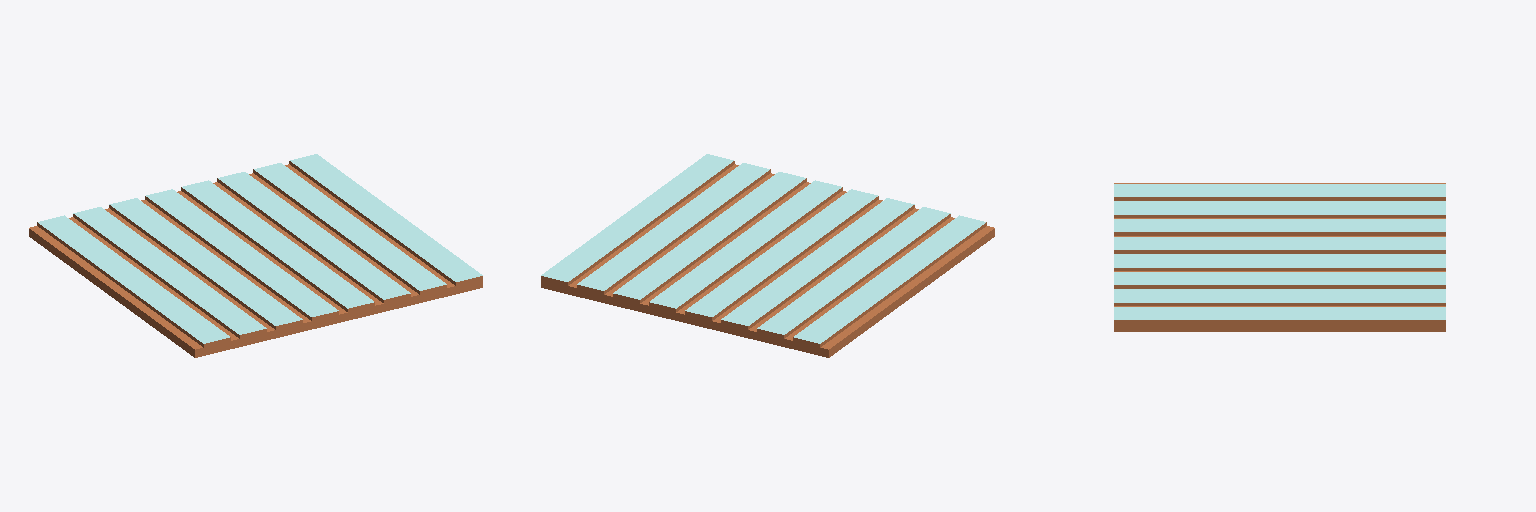
The model's file is cabinRoofFlat.obj.
The picture shows the model from 3 angles: view 1: azimuth 30°, elevation 25°; view 2: azimuth 150°, elevation 25°; view 3: azimuth 270°, elevation 25°; orthographic projection.
Visible parts, largest first — view 1: cabinRoofFlat; view 2: cabinRoofFlat; view 3: cabinRoofFlat.
Boxes of the visible parts, x1,y1,x2,y2 form: cabinRoofFlat: [29, 154, 482, 357]; cabinRoofFlat: [541, 154, 994, 357]; cabinRoofFlat: [1114, 183, 1445, 331].
Size of the model in its own units: 1 by 0.04 by 1.